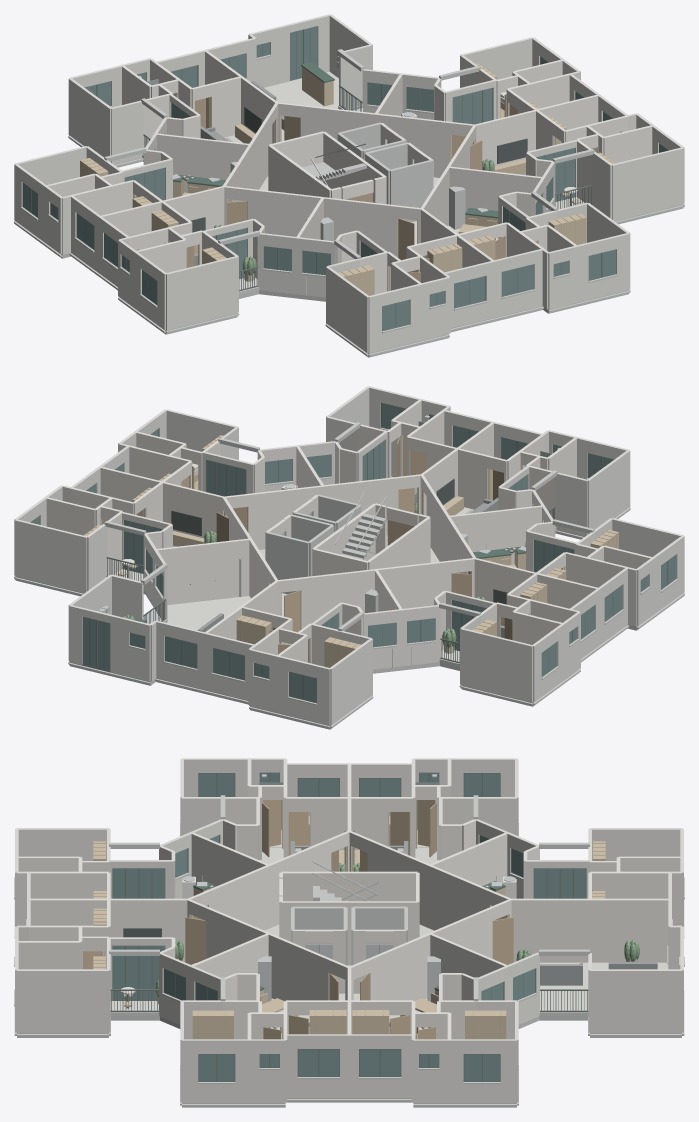
The model's file is Grupo_19_Terreo_7_Apartamentos.glb.
The picture shows the model from 3 angles, top to bottom: view 1: azimuth 30°, elevation 25°; view 2: azimuth 150°, elevation 25°; view 3: azimuth 270°, elevation 25°; orthographic projection. The views are drawn at different scales.
Visible parts, largest first — view 1: Terreo/Apartamento_0004/Arquitetura/Fachadas__Fachada_branca, Terreo/Apartamento_0005/Arquitetura/Fachadas__Fachada_branca, Terreo/Apartamento_0003/Arquitetura/Fachadas__Fachada_branca, Terreo/Apartamento_0002/Arquitetura/Fachadas__Fachada_branca, Terreo/Hall_acesso_inferido/Arquitetura/Fachadas__Fachada_br, Terreo/Apartamento_0007/Arquitetura/Fachadas__Fachada_branca, Terreo/Apartamento_0006/Arquitetura/Fachadas__Fachada_branca, Terreo/Apartamento_0007/Arquitetura/Paredes_internas__Parede, Terreo/Apartamento_0002/Arquitetura/Paredes_internas__Parede, Terreo/Apartamento_0001/Arquitetura/Fachadas__Fachada_branca, Terreo/Apartamento_0001/Arquitetura/Paredes_internas__Parede, Terreo/Nucleo_inferido/Nucleo/Escada/Paredes__Parede_interna (+45 smaller); view 2: Terreo/Apartamento_0007/Arquitetura/Fachadas__Fachada_branca, Terreo/Apartamento_0006/Arquitetura/Fachadas__Fachada_branca, Terreo/Hall_acesso_inferido/Arquitetura/Fachadas__Fachada_br, Terreo/Apartamento_0001/Arquitetura/Fachadas__Fachada_branca, Terreo/Apartamento_0004/Arquitetura/Fachadas__Fachada_branca, Terreo/Apartamento_0005/Arquitetura/Fachadas__Fachada_branca, Terreo/Apartamento_0004/Arquitetura/Paredes_internas__Parede, Terreo/Apartamento_0001/Arquitetura/Compartilhadas/Diagonal_, Terreo/Apartamento_0001/Arquitetura/Paredes_internas__Parede, Terreo/Apartamento_0003/Arquitetura/Fachadas__Fachada_branca, Terreo/Apartamento_0003/Arquitetura/Paredes_internas__Parede, Terreo/Apartamento_0002/Arquitetura/Fachadas__Fachada_branca (+44 smaller); view 3: Terreo/Apartamento_0001/Arquitetura/Fachadas__Fachada_branca, Terreo/Apartamento_0002/Arquitetura/Fachadas__Fachada_branca, Terreo/Apartamento_0007/Arquitetura/Compartilhadas/Eixo__Par, Terreo/Hall_acesso_inferido/Arquitetura/Fachadas__Fachada_br, Terreo/Apartamento_0003/Arquitetura/Fachadas__Fachada_branca, Terreo/Apartamento_0005/Arquitetura/Fachadas__Fachada_branca, Terreo/Apartamento_0006/Arquitetura/Fachadas__Fachada_branca, Terreo/Nucleo_inferido/Nucleo/Escada/Paredes__Parede_interna, Terreo/Apartamento_0005/Arquitetura/Paredes_internas__Parede, Terreo/Apartamento_0006/Arquitetura/Paredes_internas__Parede, Terreo/Apartamento_0003/Arquitetura/Compartilhadas/Eixo__Par, Terreo/Apartamento_0007/Arquitetura/Fachadas__Fachada_branca (+47 smaller).
Boxes of the visible parts, box(x1,y1,x2,y2) form: Terreo/Apartamento_0004/Arquitetura/Fachadas__Fachada_branca: box(297, 237, 494, 353); Terreo/Apartamento_0005/Arquitetura/Fachadas__Fachada_branca: box(98, 216, 297, 330); Terreo/Apartamento_0003/Arquitetura/Fachadas__Fachada_branca: box(493, 178, 630, 317); Terreo/Apartamento_0002/Arquitetura/Fachadas__Fachada_branca: box(542, 95, 684, 221); Terreo/Hall_acesso_inferido/Arquitetura/Fachadas__Fachada_br: box(205, 14, 401, 113); Terreo/Apartamento_0007/Arquitetura/Fachadas__Fachada_branca: box(68, 50, 205, 164); Terreo/Apartamento_0006/Arquitetura/Fachadas__Fachada_branca: box(14, 133, 156, 272); Terreo/Apartamento_0007/Arquitetura/Paredes_internas__Parede: box(122, 62, 240, 147); Terreo/Apartamento_0002/Arquitetura/Paredes_internas__Parede: box(526, 110, 652, 203); Terreo/Apartamento_0001/Arquitetura/Fachadas__Fachada_branca: box(401, 37, 599, 119); Terreo/Apartamento_0001/Arquitetura/Paredes_internas__Parede: box(434, 59, 569, 120); Terreo/Nucleo_inferido/Nucleo/Escada/Paredes__Parede_interna: box(268, 131, 386, 203); Terreo/Apartamento_0007/Arquitetura/Fachadas__Fachada_branca: box(204, 609, 401, 725); Terreo/Apartamento_0006/Arquitetura/Fachadas__Fachada_branca: box(401, 589, 600, 702); Terreo/Hall_acesso_inferido/Arquitetura/Fachadas__Fachada_br: box(68, 550, 205, 689); Terreo/Apartamento_0001/Arquitetura/Fachadas__Fachada_branca: box(14, 467, 156, 605); Terreo/Apartamento_0004/Arquitetura/Fachadas__Fachada_branca: box(493, 422, 630, 536); Terreo/Apartamento_0005/Arquitetura/Fachadas__Fachada_branca: box(542, 505, 684, 644); Terreo/Apartamento_0004/Arquitetura/Paredes_internas__Parede: box(458, 434, 577, 519); Terreo/Apartamento_0001/Arquitetura/Compartilhadas/Diagonal_: box(155, 538, 250, 604); Terreo/Apartamento_0001/Arquitetura/Paredes_internas__Parede: box(46, 482, 172, 575); Terreo/Apartamento_0003/Arquitetura/Fachadas__Fachada_branca: box(297, 386, 493, 485); Terreo/Apartamento_0003/Arquitetura/Paredes_internas__Parede: box(335, 399, 456, 483); Terreo/Apartamento_0002/Arquitetura/Fachadas__Fachada_branca: box(99, 409, 297, 491); Terreo/Apartamento_0001/Arquitetura/Fachadas__Fachada_branca: box(349, 966, 518, 1103); Terreo/Apartamento_0002/Arquitetura/Fachadas__Fachada_branca: box(180, 966, 349, 1103); Terreo/Apartamento_0007/Arquitetura/Compartilhadas/Eixo__Par: box(511, 898, 669, 962); Terreo/Hall_acesso_inferido/Arquitetura/Fachadas__Fachada_br: box(507, 899, 683, 1033); Terreo/Apartamento_0003/Arquitetura/Fachadas__Fachada_branca: box(15, 899, 192, 1033); Terreo/Apartamento_0005/Arquitetura/Fachadas__Fachada_branca: box(180, 758, 349, 844); Terreo/Apartamento_0006/Arquitetura/Fachadas__Fachada_branca: box(349, 758, 518, 844); Terreo/Nucleo_inferido/Nucleo/Escada/Paredes__Parede_interna: box(281, 871, 417, 965); Terreo/Apartamento_0005/Arquitetura/Paredes_internas__Parede: box(223, 759, 349, 859); Terreo/Apartamento_0006/Arquitetura/Paredes_internas__Parede: box(349, 759, 475, 859); Terreo/Apartamento_0003/Arquitetura/Compartilhadas/Eixo__Par: box(29, 898, 187, 962); Terreo/Apartamento_0007/Arquitetura/Fachadas__Fachada_branca: box(506, 828, 683, 926).
Size of the model in its own units: 26.04 by 4.06 by 26.04.
